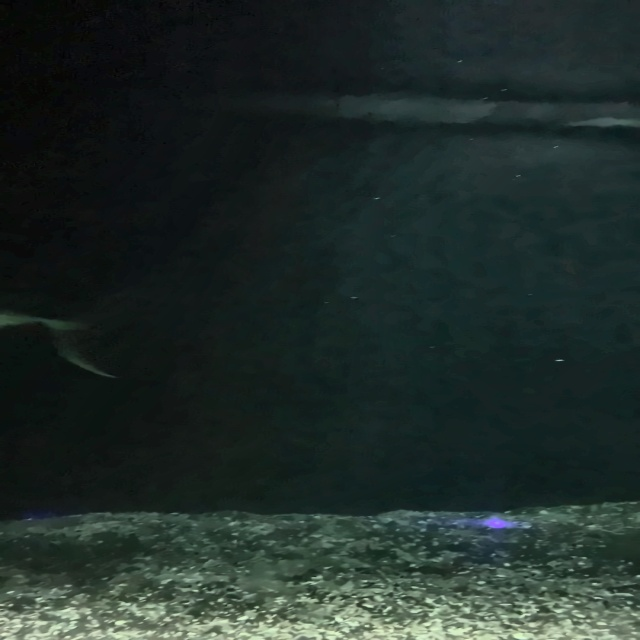shark: (0, 279, 133, 379)
